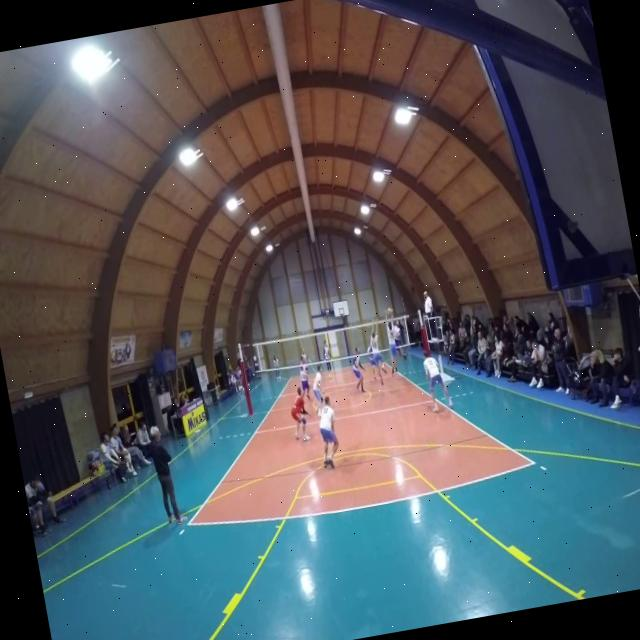Volleyball: (386, 304, 394, 318)
